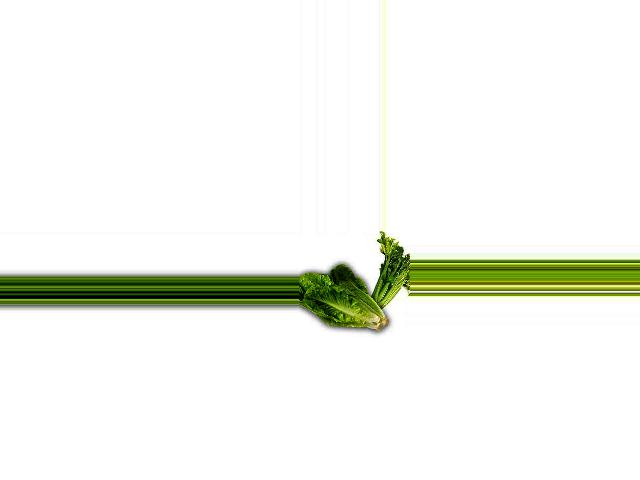lettuce: (298, 257, 392, 327)
